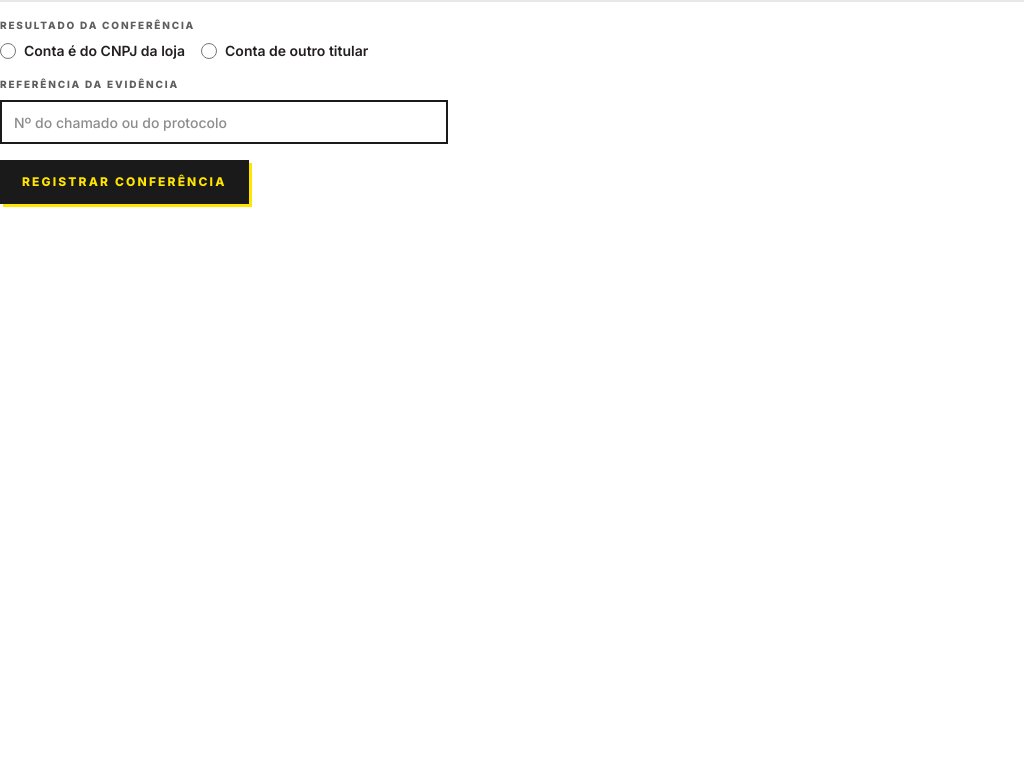
Test: VendorMercadoPagoIdentityForm › mostra o erro do servidor e não atualiza a página
Click the radio button labelled "Conta é do CNPJ da loja": [8, 51] box [0,43,16,59]
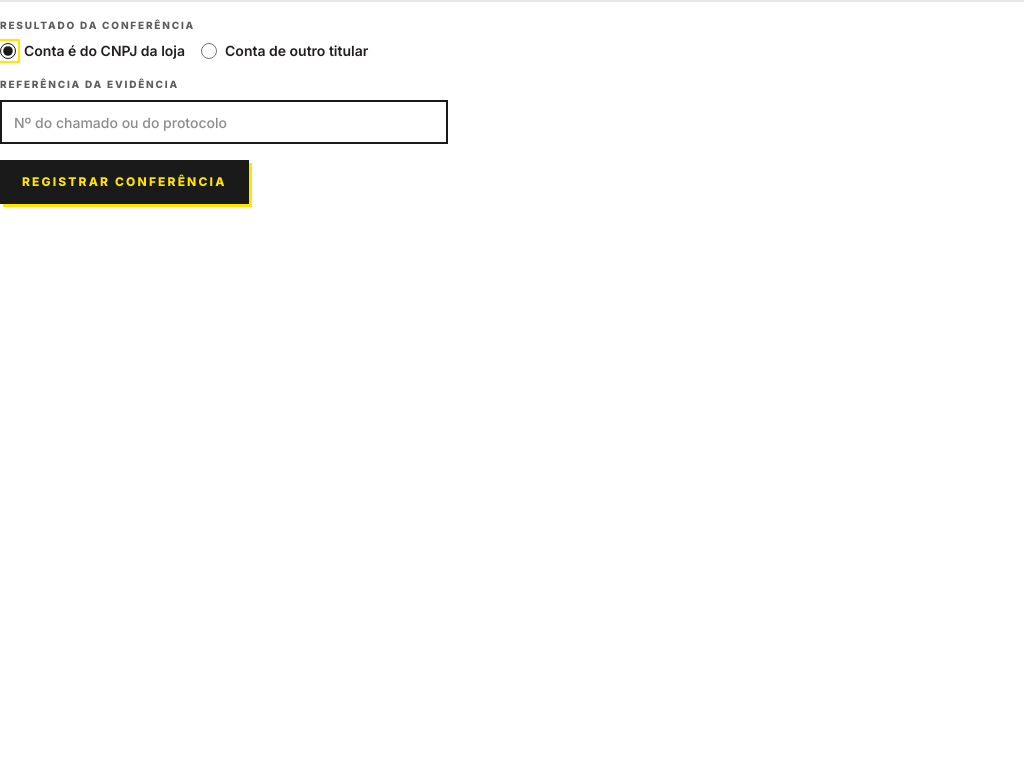
In the field labelled "Referência da evidência": [224, 122] box [0,100,448,144], type "CH-1"
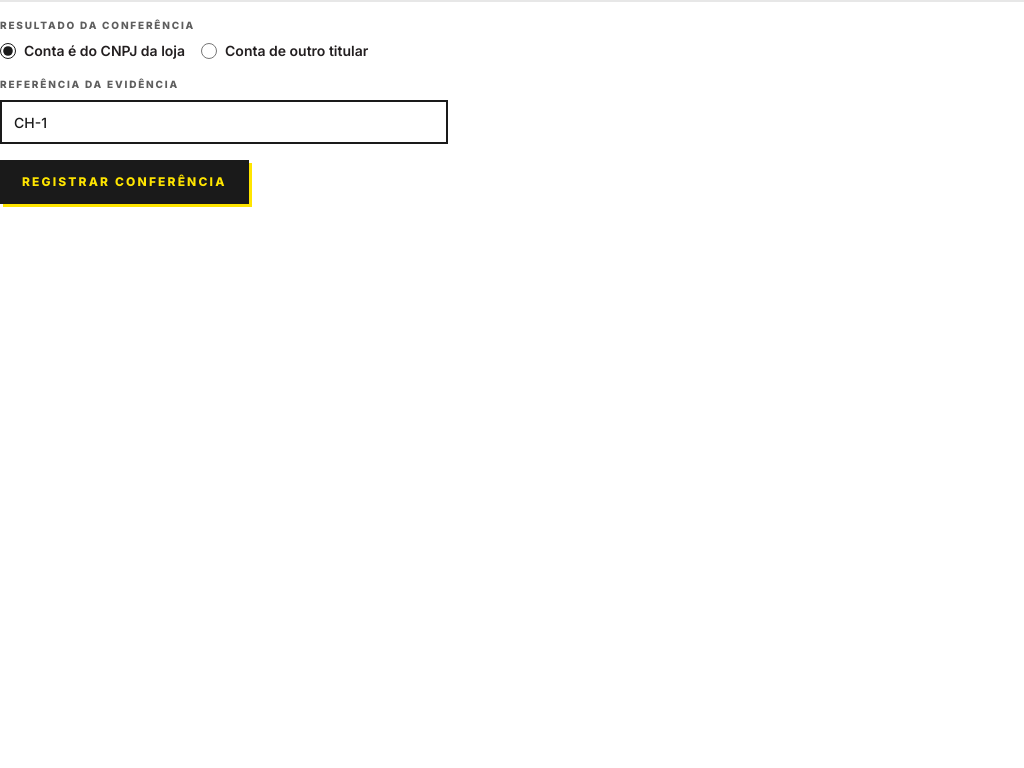
Click the button "Registrar conferência": [124, 182] box [0,160,248,204]
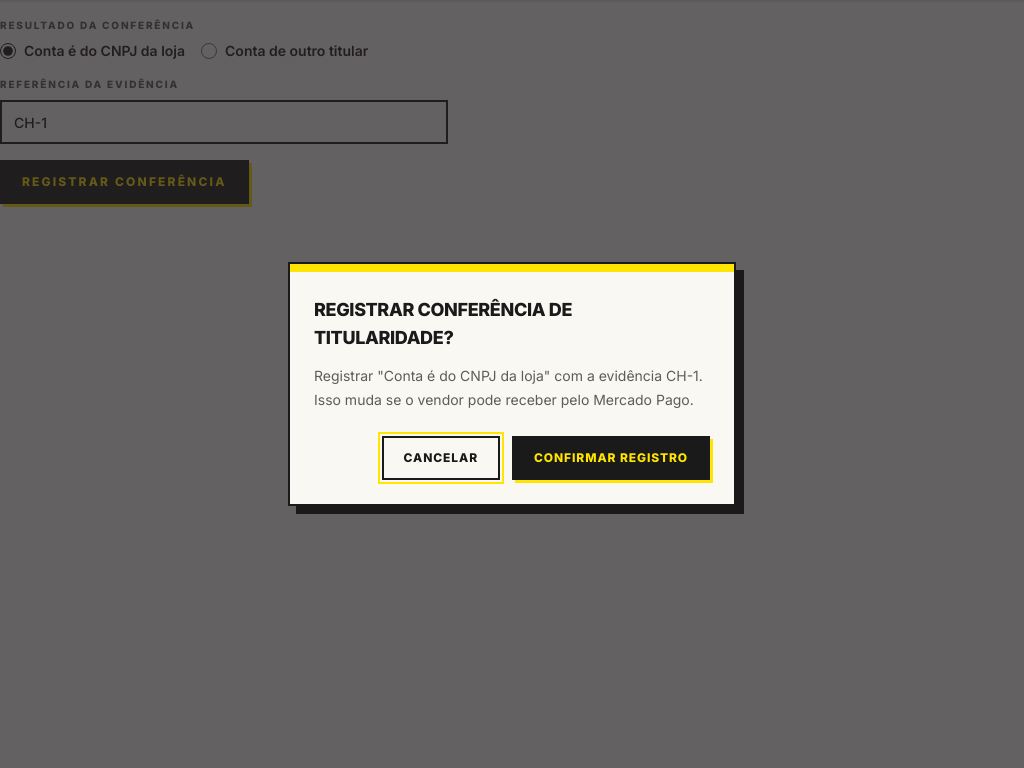
Click the button "Confirmar registro": [611, 458] box [512,436,710,480]
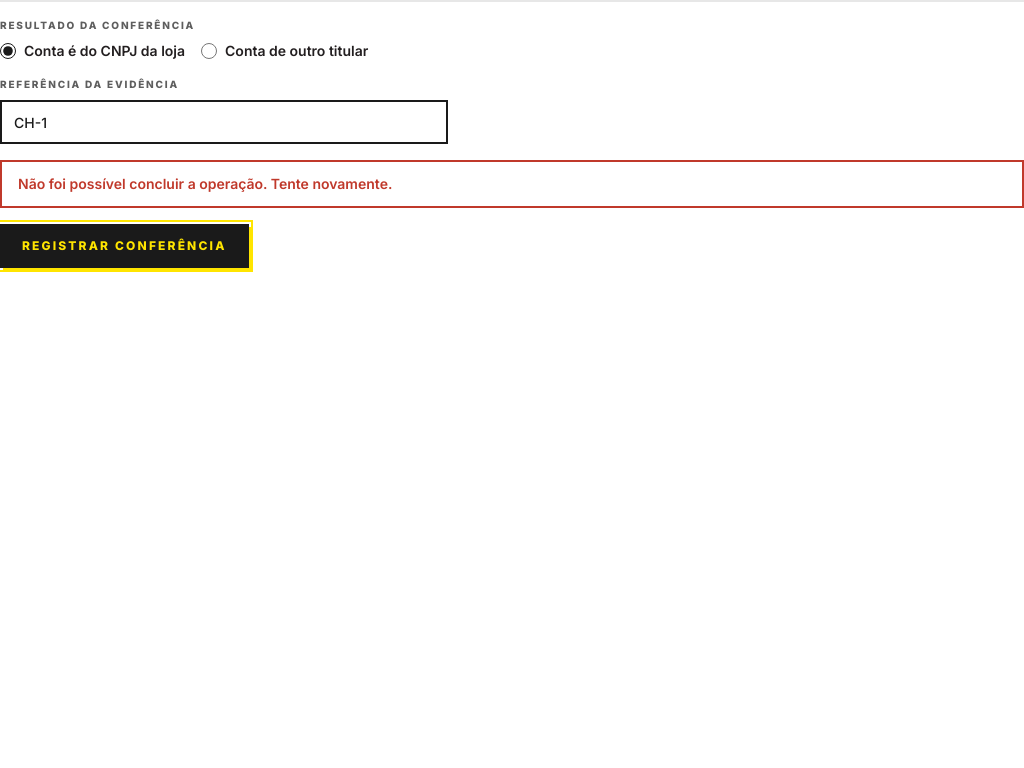
Expected: the message "Não foi possível concluir a operação. Tente novamente." is shown, [0,160,1023,208]
